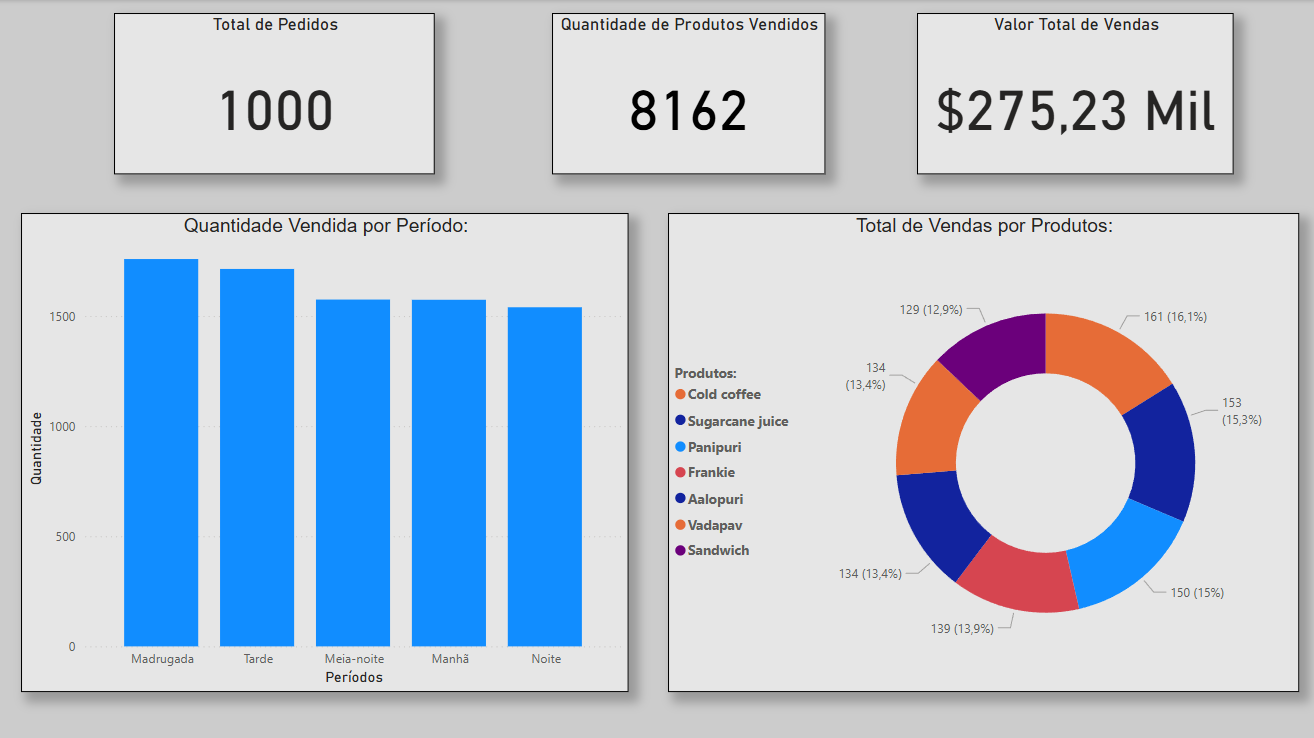

The page's visual inventory and layout, read from the dashboard file:
{"tool":"powerbi","page":{"name":"Contagem Geral","canvas":[1280,720],"ordinal":0},"visuals":[{"type":"card","title":"Quantidade de Produtos Vendidos","fields":{"Values":["Sum(Balaji Fast Food Sales.quantity)"]},"box":[537.9,12.6,265.5,156.6],"z":0},{"type":"donutChart","title":"Total de Vendas por Produtos:","fields":{"Category":["Balaji Fast Food Sales.item_name"],"Y":["CountNonNull(Balaji Fast Food Sales.order_id)"]},"box":[650.8,207.5,613.6,465.5],"z":1000},{"type":"columnChart","title":"Quantidade Vendida por Período:","fields":{"Y":["Sum(Balaji Fast Food Sales.quantity)"],"Category":["Balaji Fast Food Sales.Período Formatado"]},"box":[21.3,207.5,591.4,465.5],"z":2000},{"type":"card","title":"Total de Pedidos","fields":{"Values":["CountNonNull(Balaji Fast Food Sales.order_id)"]},"box":[111.7,12.4,312.1,156.9],"z":3000},{"type":"card","title":"Valor Total de Vendas","fields":{"Values":["Sum(Balaji Fast Food Sales.transaction_amount)"]},"box":[892.9,12.6,308.3,156.6],"z":5000}]}

Visuals, with their boxes in screenshot pixels (x1, y1, x2, y2), scaled from the page's 1280x720 canvas onto the 1314x738 screenshot:
"Quantidade de Produtos Vendidos" card: select_region(552, 13, 825, 173)
"Total de Vendas por Produtos:" donutChart: select_region(668, 213, 1298, 690)
"Quantidade Vendida por Período:" columnChart: select_region(22, 213, 629, 690)
"Total de Pedidos" card: select_region(115, 13, 435, 174)
"Valor Total de Vendas" card: select_region(917, 13, 1233, 173)
